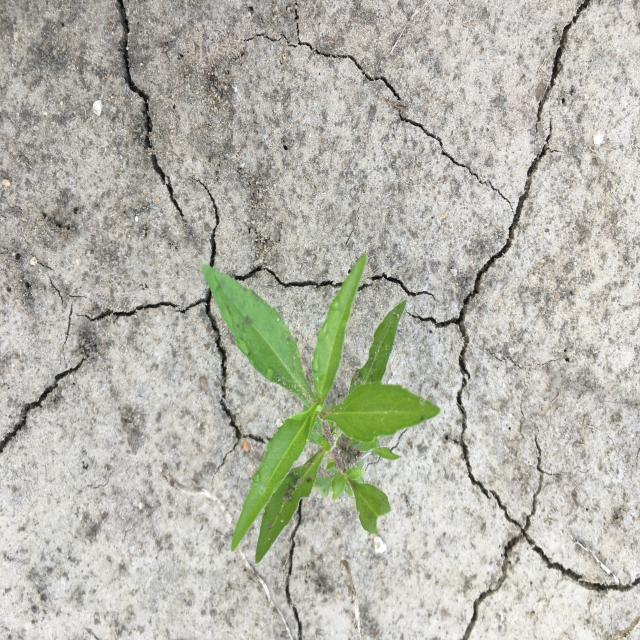Eclipta: (199, 251, 442, 566)
